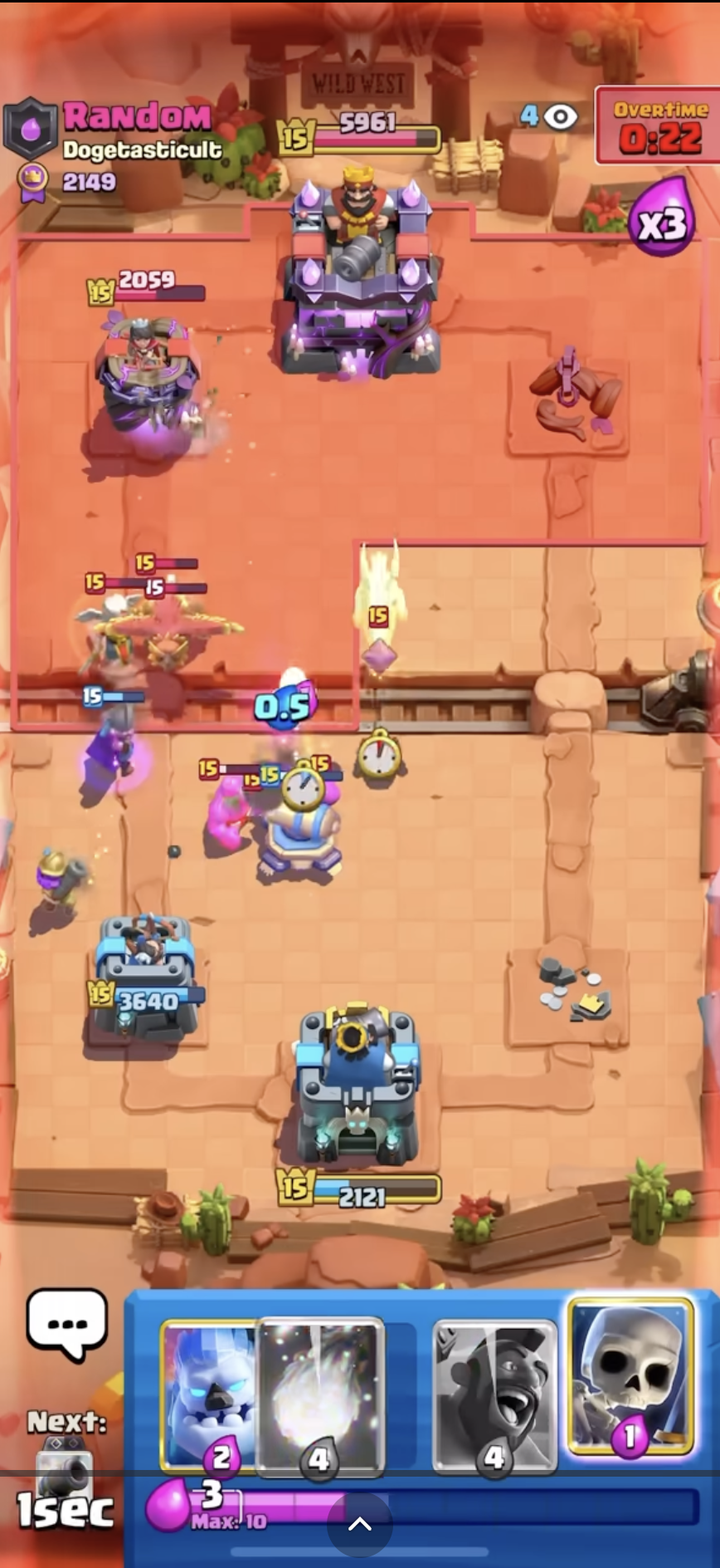cannon: (246, 764, 364, 892)
evo-musketeer: (74, 683, 158, 781)
musketeer: (30, 833, 108, 938)
